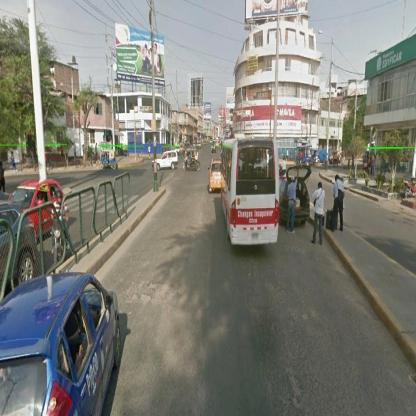Moto: (49, 192, 71, 264)
Peaton: (329, 174, 345, 238), (311, 184, 326, 249), (287, 169, 300, 234), (1, 162, 7, 195), (12, 153, 18, 173)
Pista: (94, 186, 416, 402), (306, 179, 416, 272), (66, 166, 168, 257), (179, 145, 222, 162)
Vehiculo: (1, 271, 124, 415), (221, 139, 280, 249), (7, 179, 69, 239), (3, 201, 38, 294), (152, 150, 179, 173), (207, 162, 221, 200), (99, 148, 118, 174), (183, 150, 201, 173)
